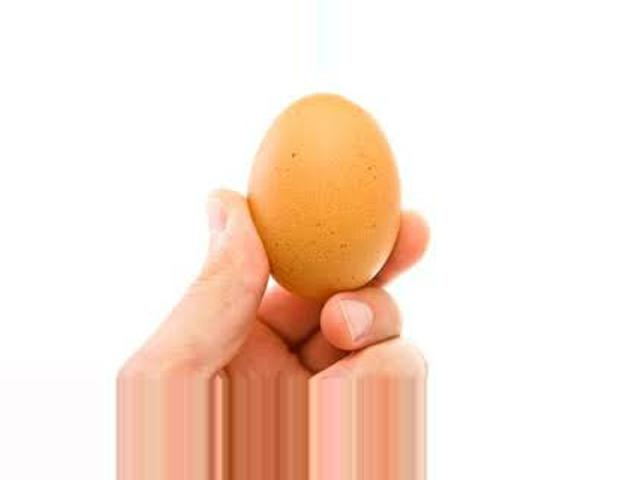egg: (247, 92, 402, 294)
